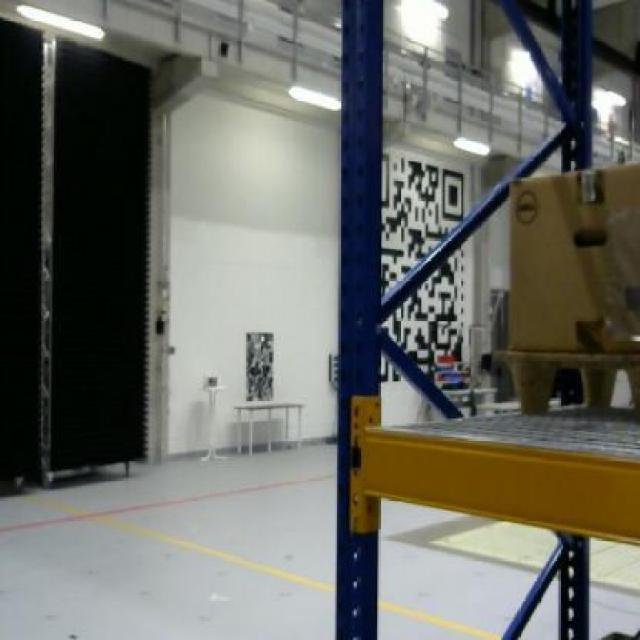box: (508, 164, 640, 352)
